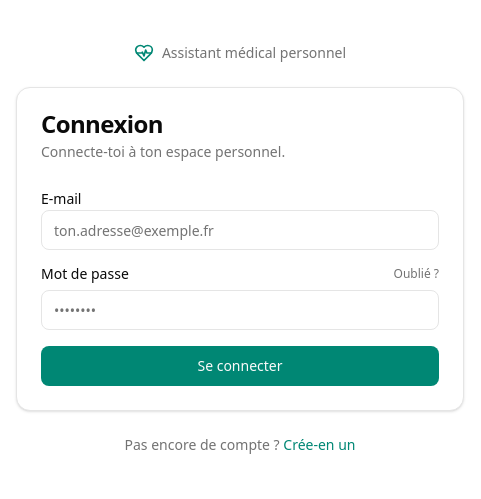
Test: <LoginPage /> › shows validation errors when email is missing or invalid
Click the button "Se connecter". click: (240, 366)
box: [41, 346, 439, 386]
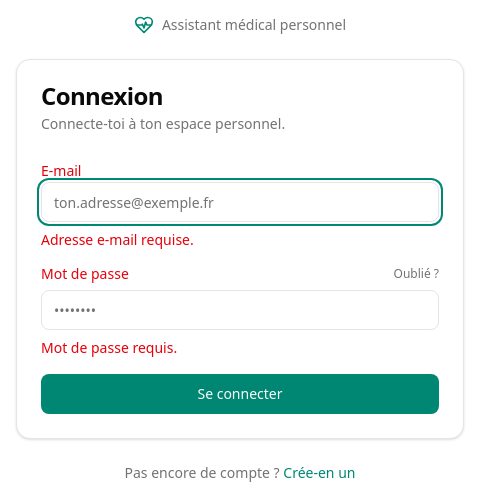
Expected: the text "Adresse e-mail requise." is shown, [41, 230, 194, 249]
Expected: the text "Mot de passe requis." is shown, [41, 338, 177, 357]
